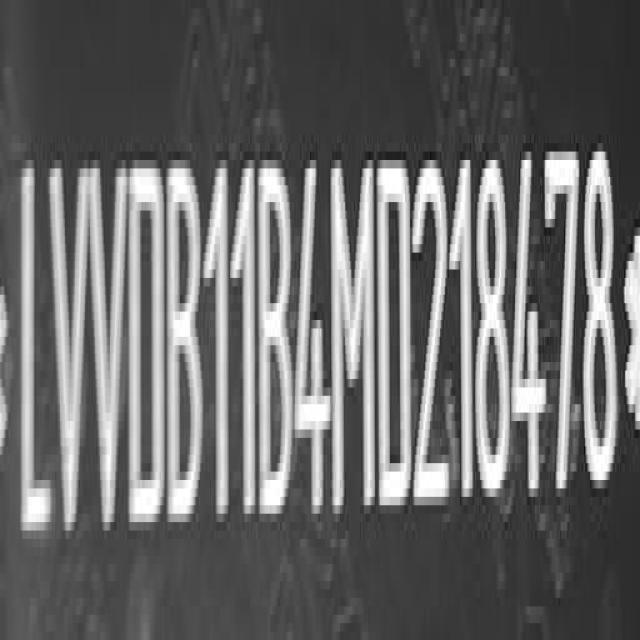1: (231, 156, 255, 531), (209, 161, 233, 534), (454, 148, 478, 514)
2: (414, 156, 450, 521)
4: (296, 154, 334, 524), (512, 148, 547, 506)
7: (546, 146, 582, 502)
8: (476, 152, 510, 510), (585, 149, 620, 492)
B: (170, 158, 206, 535), (258, 159, 294, 521)
D: (127, 155, 165, 541), (380, 153, 418, 522)
L: (18, 152, 53, 556)
M: (334, 156, 376, 524)
V: (48, 156, 89, 551), (89, 153, 129, 546)
